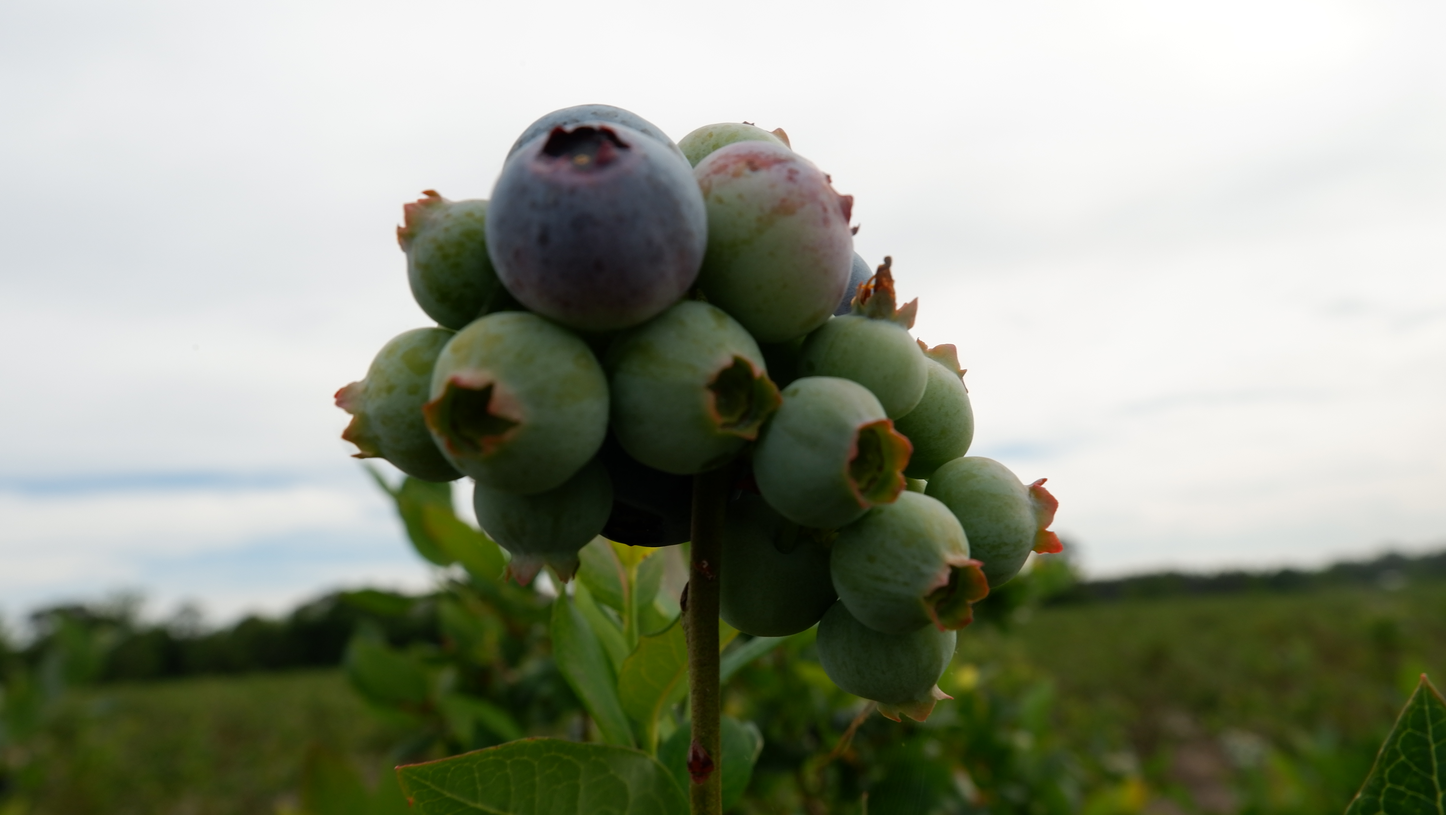Immature: (424, 311, 613, 497), (587, 300, 782, 475), (693, 140, 859, 345), (754, 376, 917, 529), (828, 491, 990, 633), (334, 327, 466, 484), (799, 263, 926, 421), (397, 187, 530, 332), (473, 453, 613, 588), (924, 457, 1065, 591), (817, 597, 959, 722), (718, 503, 841, 637), (595, 410, 693, 545), (889, 337, 973, 479), (678, 122, 793, 169)
Mature: (488, 122, 710, 333), (504, 102, 692, 171), (832, 251, 875, 317)
